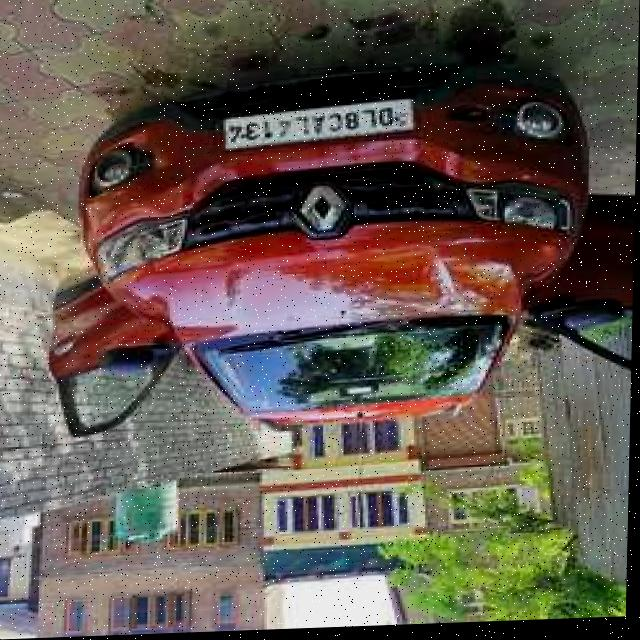plate: (216, 106, 423, 151)
